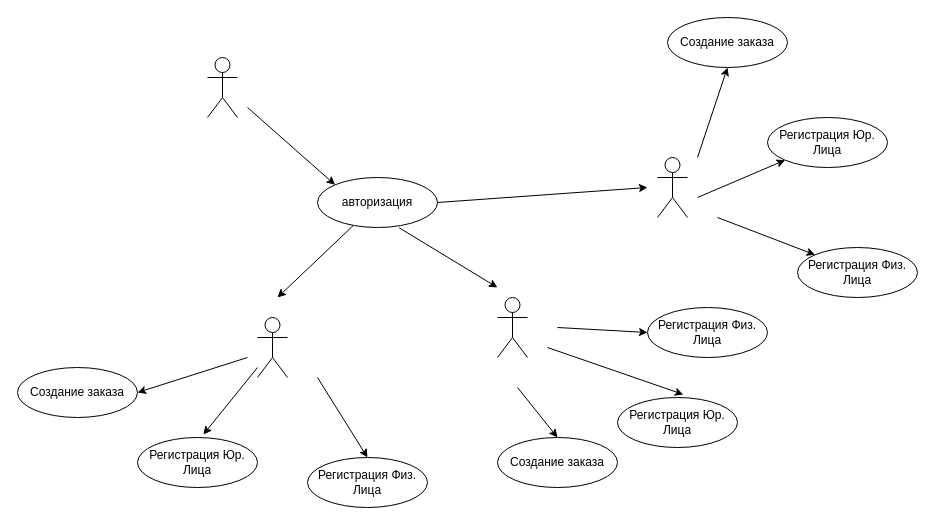
The diagram is 935 pixels wide and 525 high, and some of its shapes have lost their labels. Here are the shapes that lost their labels. From the top down, the centre of each, then its label:
At pixel 222 87: "Пользователь".
At pixel 672 187: "Контроллер".
At pixel 272 347: "Менеджер".
At pixel 512 327: "Лаборант".
